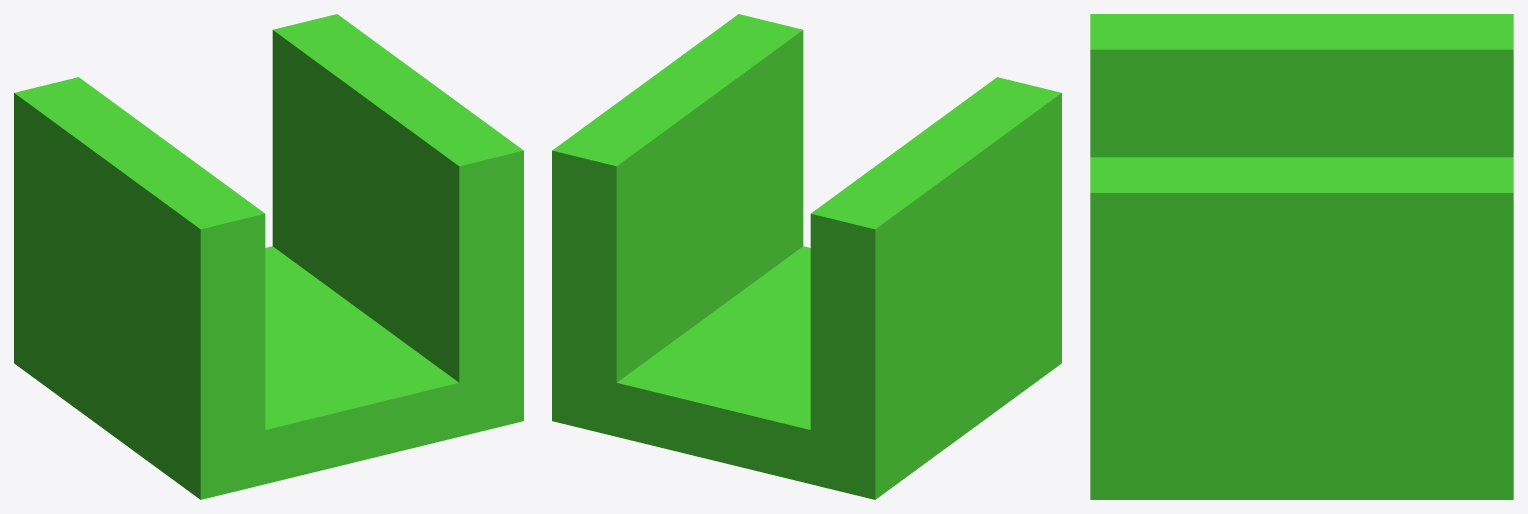
File: Tunnel Box Straight.glb
The picture shows the model from 3 angles, left to right: view 1: azimuth 30°, elevation 25°; view 2: azimuth 150°, elevation 25°; view 3: azimuth 270°, elevation 25°; orthographic projection. The views are drawn at different scales.
Visible parts, largest first — view 1: Straight; view 2: Straight; view 3: Straight.
Boxes of the visible parts, bbox=[...] form: Straight: bbox=[14, 14, 523, 499]; Straight: bbox=[552, 14, 1061, 499]; Straight: bbox=[1090, 14, 1513, 499].
Bounding box in the file's own units: 10 × 8 × 10.
